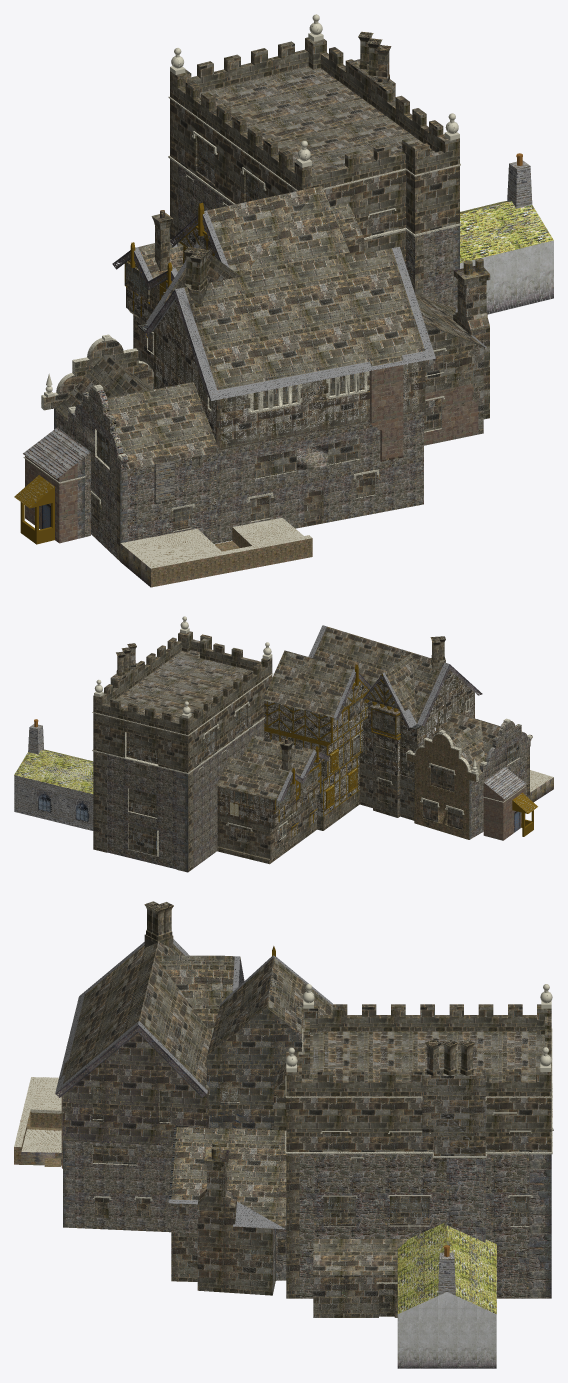
File: turtont.fbx
The picture shows the model from 3 angles, top to bottom: view 1: azimuth 30°, elevation 25°; view 2: azimuth 150°, elevation 25°; view 3: azimuth 270°, elevation 25°; orthographic projection. The views are drawn at different scales.
Parts seen in each view (by area): view 1: Mesh73, Mesh93, Mesh123, Mesh117, Mesh98, Mesh85, Mesh77, Mesh134, Mesh135, Mesh115, Mesh124, Mesh118 (+7 smaller); view 2: Mesh73, Mesh93, Mesh98, Mesh117, Mesh115, Mesh77, Mesh104, Mesh135, Mesh124, Mesh118, Mesh90, Mesh136 (+4 smaller); view 3: Mesh73, Mesh93, Mesh85, Mesh77, Mesh98, Mesh76, Mesh81, Mesh134, Mesh80.
Part boxes in pixels (<box>): Mesh73: <box>168,37,461,308</box>; Mesh93: <box>138,243,435,444</box>; Mesh123: <box>217,361,423,543</box>; Mesh117: <box>54,354,220,561</box>; Mesh98: <box>170,186,350,276</box>; Mesh85: <box>415,279,489,445</box>; Mesh77: <box>460,201,553,314</box>; Mesh134: <box>120,518,312,587</box>; Mesh135: <box>23,427,90,543</box>; Mesh115: <box>120,239,183,371</box>; Mesh124: <box>41,338,153,410</box>; Mesh118: <box>68,388,128,471</box>; Mesh73: <box>92,631,273,872</box>; Mesh93: <box>308,625,482,820</box>; Mesh98: <box>262,650,371,830</box>; Mesh117: <box>414,712,529,839</box>; Mesh115: <box>216,756,297,864</box>; Mesh77: <box>14,749,93,830</box>; Mesh104: <box>241,735,324,847</box>; Mesh135: <box>483,767,526,840</box>; Mesh124: <box>406,732,478,782</box>; Mesh118: <box>479,720,532,773</box>; Mesh90: <box>400,713,416,778</box>; Mesh136: <box>512,793,537,836</box>; Mesh73: <box>274,1004,553,1298</box>; Mesh93: <box>55,939,244,1232</box>; Mesh85: <box>168,1127,286,1295</box>; Mesh77: <box>397,1222,496,1368</box>; Mesh98: <box>206,955,332,1129</box>; Mesh76: <box>422,1039,486,1242</box>; Mesh81: <box>313,1239,408,1317</box>; Mesh134: <box>14,1077,61,1166</box>; Mesh80: <box>438,1252,455,1295</box>.
Bounding box in the file's own units: 37.67 × 15.23 × 29.03.
57 materials, 45 textured.
